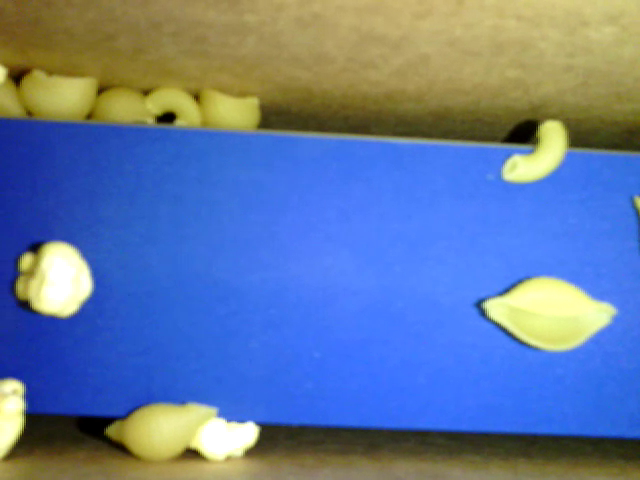elbow: (501, 119, 568, 183), (144, 86, 200, 127)
shell: (478, 274, 619, 352), (102, 400, 219, 462), (15, 68, 98, 120), (197, 86, 263, 130), (89, 85, 157, 127)
